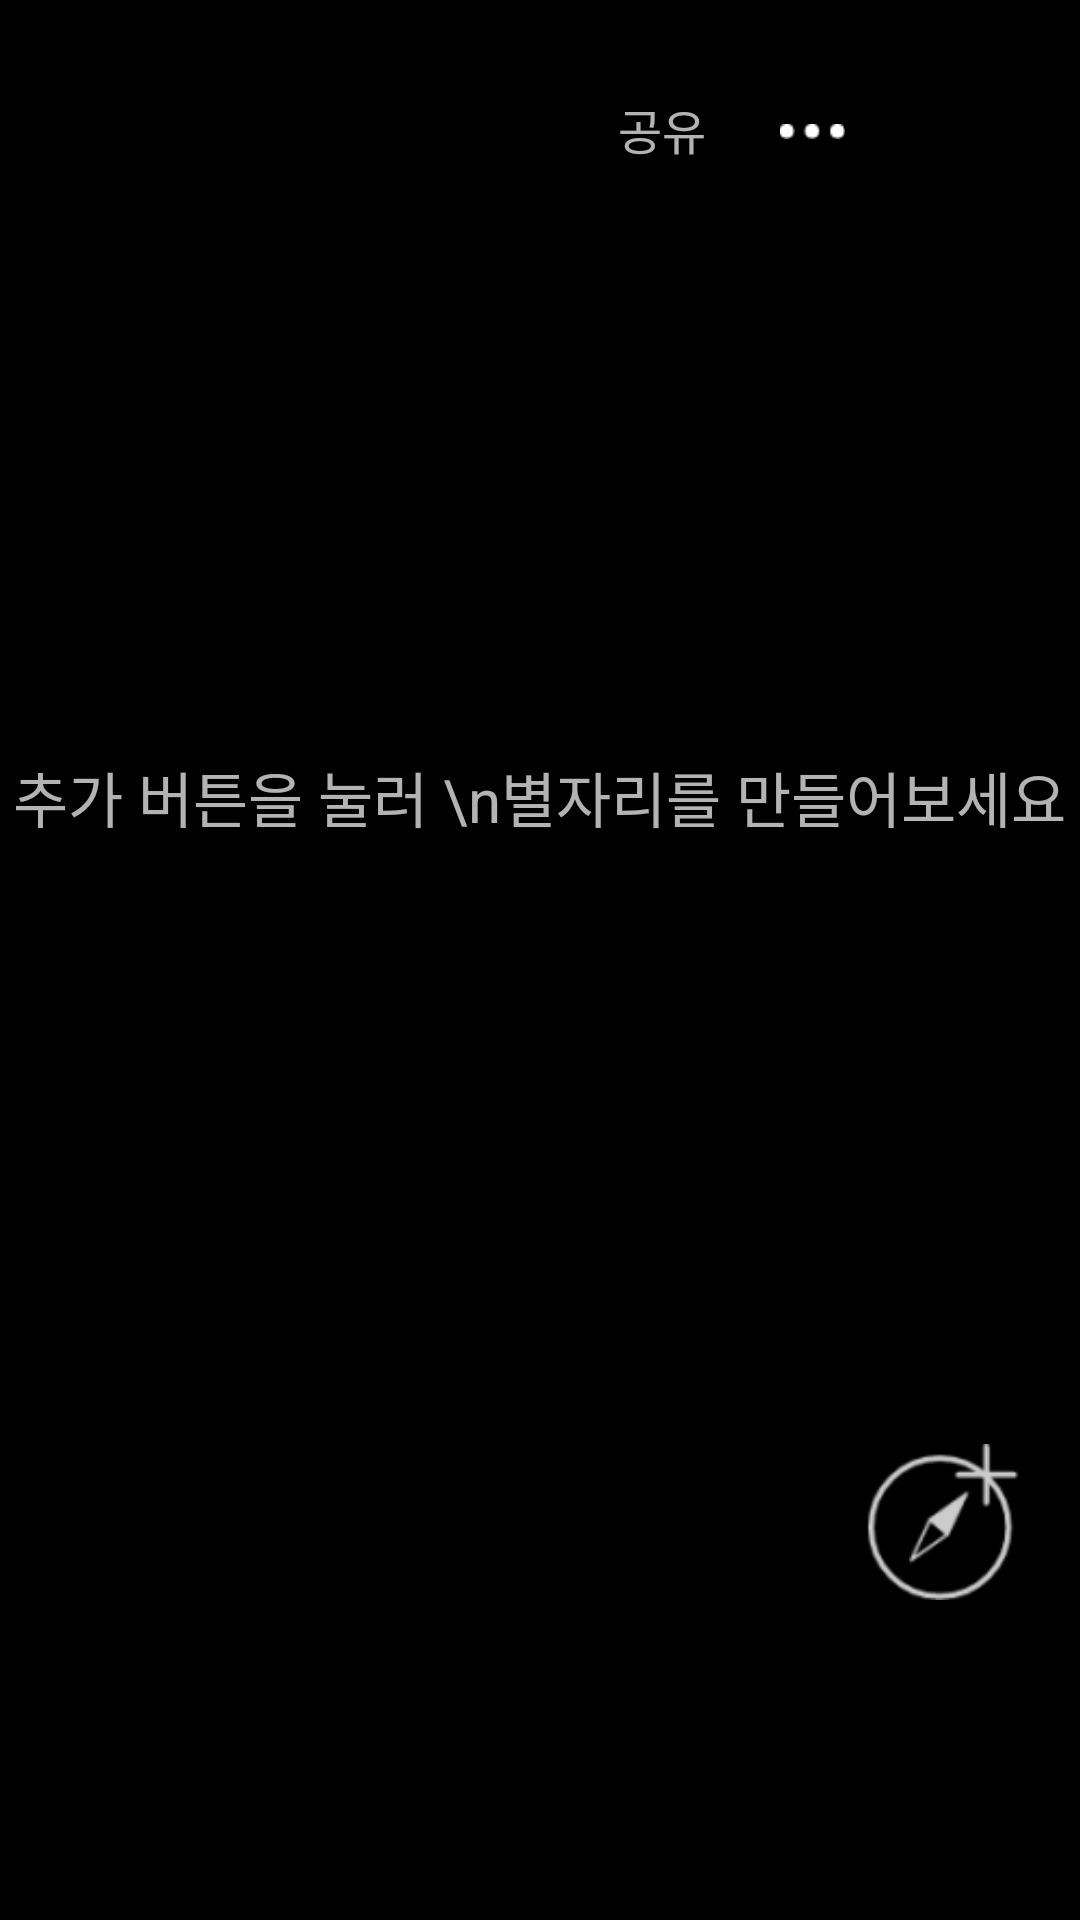

Named icons in this screenshot (1080×1920) and their bounding boxes, (x1, y1, x2, y2):
compass: (868, 1444, 1018, 1600)
